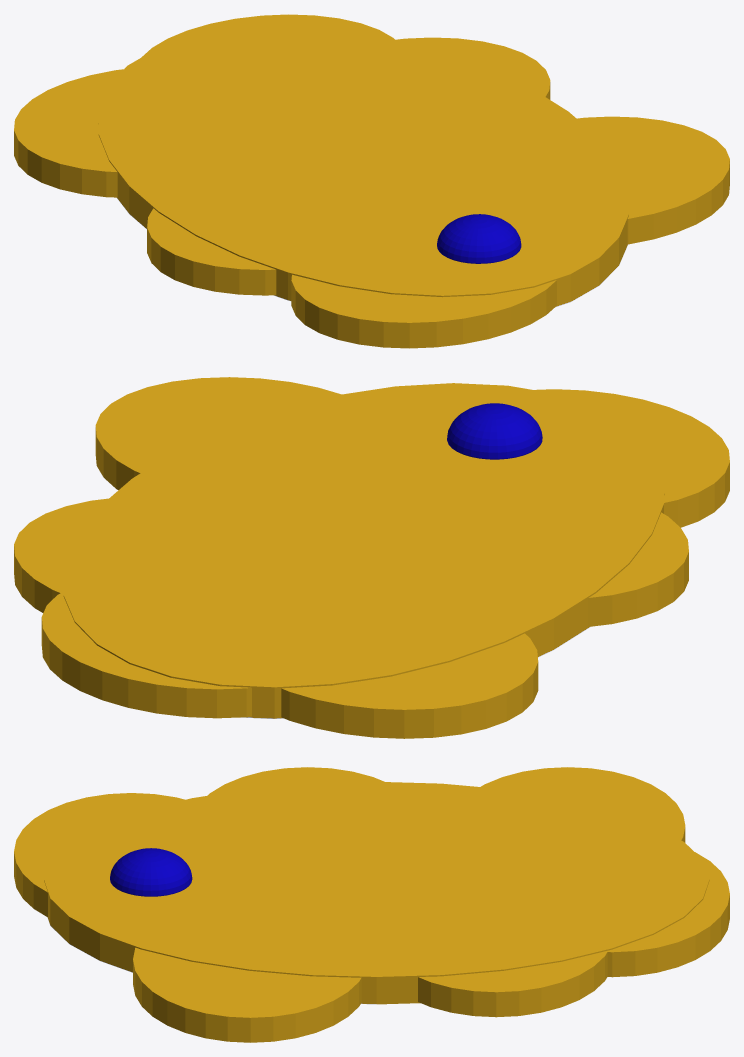
Rendered from meltPlayer.obj.
3 views of the same model, one above another, from view 1: azimuth 30°, elevation 25°; view 2: azimuth 150°, elevation 25°; view 3: azimuth 270°, elevation 25° (orthographic). The views are drawn at different scales.
Parts seen in each view (by area): view 1: 円柱.006; view 2: 円柱.006; view 3: 円柱.006.
Part boxes in pixels (box(x1,y1,x2,y2)): 円柱.006: box(14, 14, 729, 348); 円柱.006: box(14, 377, 729, 738); 円柱.006: box(14, 767, 729, 1042).
Size of the model in its own units: 2.15 by 0.2131 by 2.6.
Materials: 1 (1 with a texture image).
